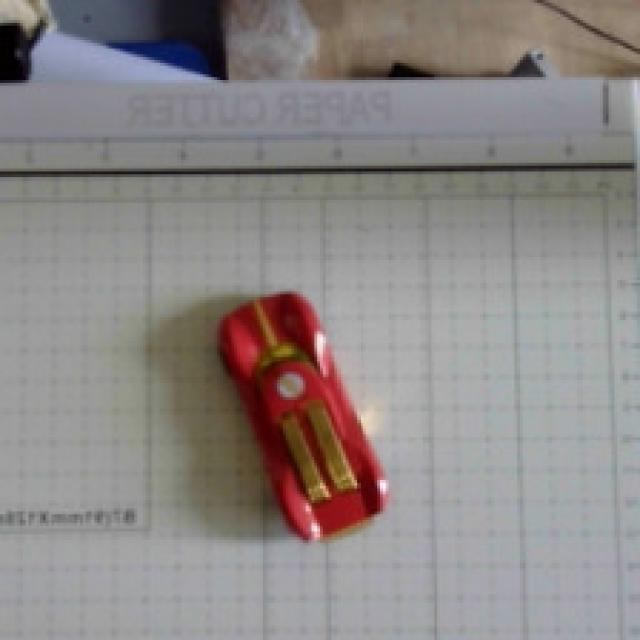Red Car: (179, 253, 447, 575)
